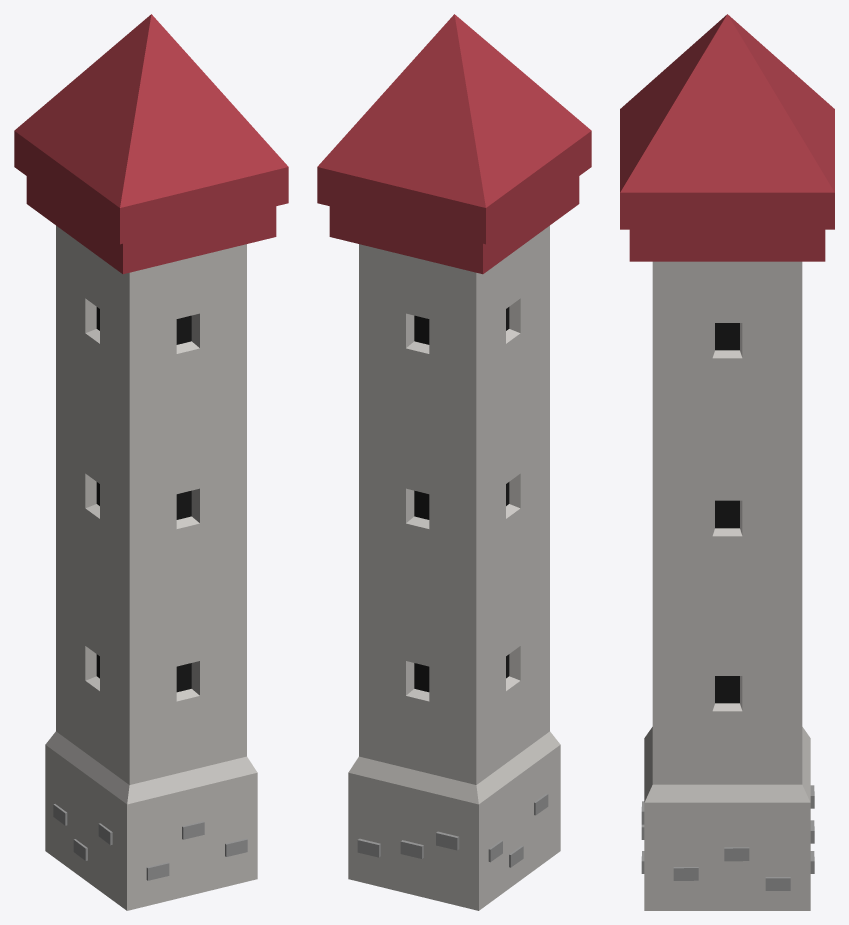
File: LargeSimpleTower.glb
3 views of the same model, side by side, from view 1: azimuth 30°, elevation 25°; view 2: azimuth 150°, elevation 25°; view 3: azimuth 270°, elevation 25° (orthographic).
Visible parts, largest first — view 1: LargeSimpleTower; view 2: LargeSimpleTower; view 3: LargeSimpleTower.
Part boxes in pixels (box(x1,y1,x2,y2)): LargeSimpleTower: box(14, 14, 288, 910); LargeSimpleTower: box(317, 14, 591, 910); LargeSimpleTower: box(620, 14, 834, 910).
Size of the model in its own units: 0.7657 by 3.69 by 0.8311.
